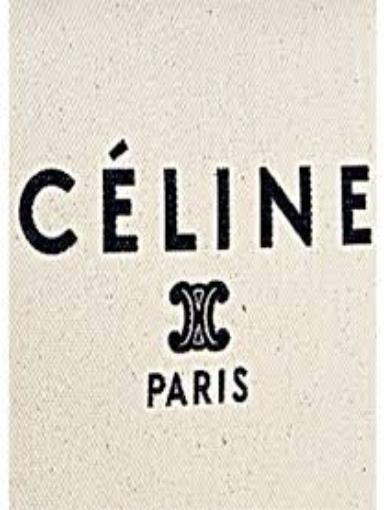CELINE: (16, 135, 374, 262)
